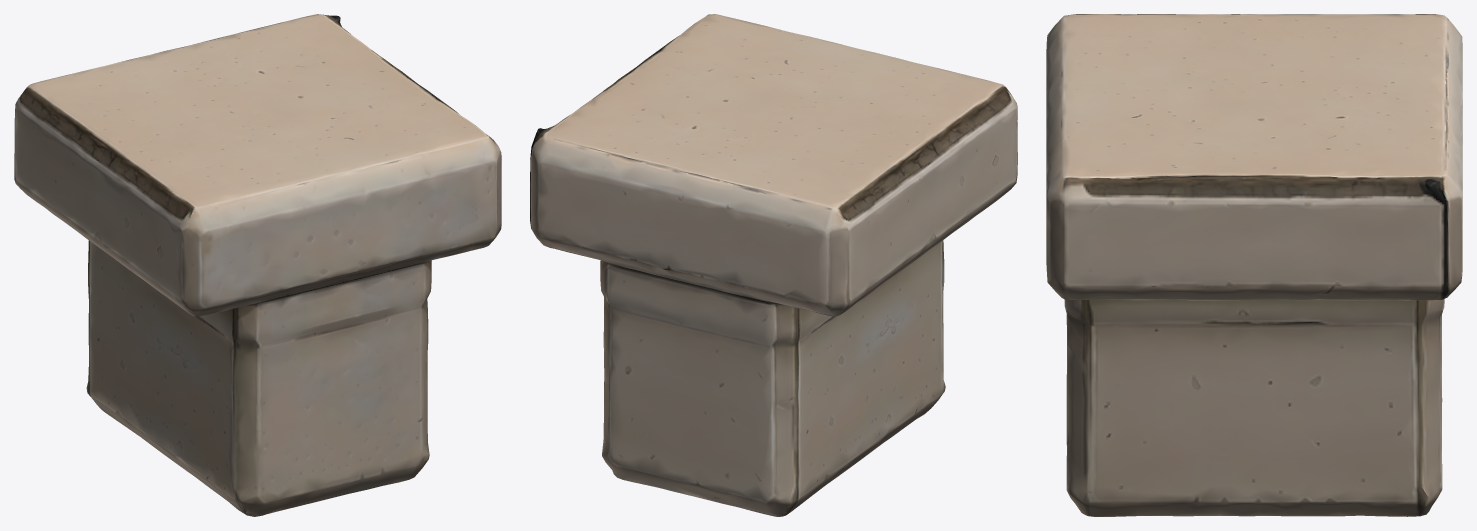
The model's file is 8_ShortPost.glb.
3 views of the same model, side by side, from view 1: azimuth 30°, elevation 25°; view 2: azimuth 150°, elevation 25°; view 3: azimuth 270°, elevation 25° (orthographic). The views are drawn at different scales.
Visible parts, largest first — view 1: input; view 2: input; view 3: input.
Part boxes in pixels (bbox=[...]): input: bbox=[14, 14, 501, 516]; input: bbox=[530, 14, 1017, 516]; input: bbox=[1046, 14, 1462, 516].
Bounding box in the file's own units: 0.9984 × 0.9949 × 0.995.
Materials: 1 (1 with a texture image).
